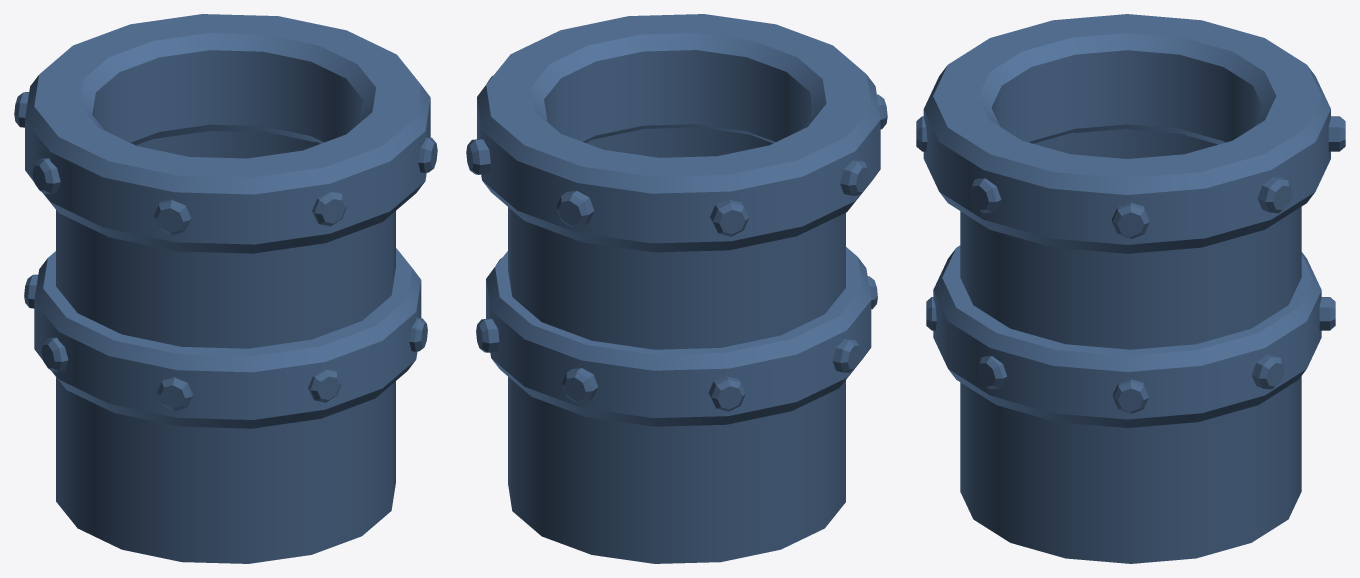
Rendered from Pipe_End.glb.
3 renders of one model, left to right at view 1: azimuth 30°, elevation 25°; view 2: azimuth 150°, elevation 25°; view 3: azimuth 270°, elevation 25°, orthographic.
Visible parts, largest first — view 1: Pipe_End; view 2: Pipe_End; view 3: Pipe_End.
Boxes of the visible parts, bbox=[...] form: Pipe_End: bbox=[14, 14, 437, 563]; Pipe_End: bbox=[466, 14, 887, 563]; Pipe_End: bbox=[916, 14, 1345, 563].
Size of the model in its own units: 2.18 by 2.22 by 2.18.
